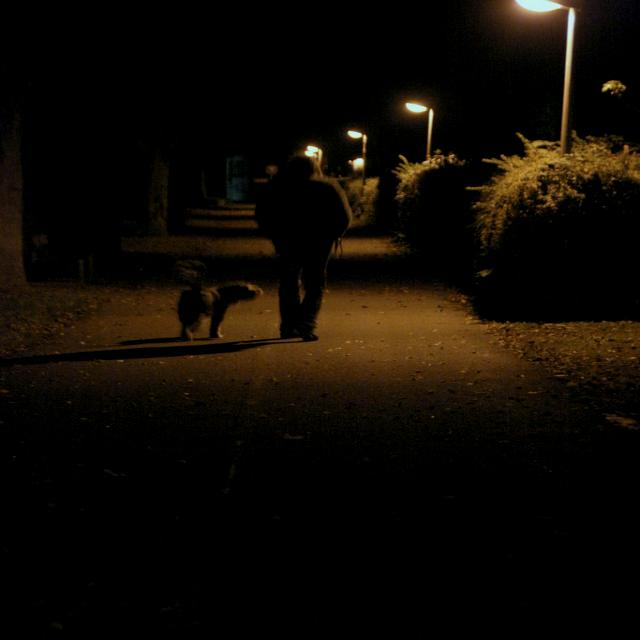Dog: (176, 277, 262, 340)
